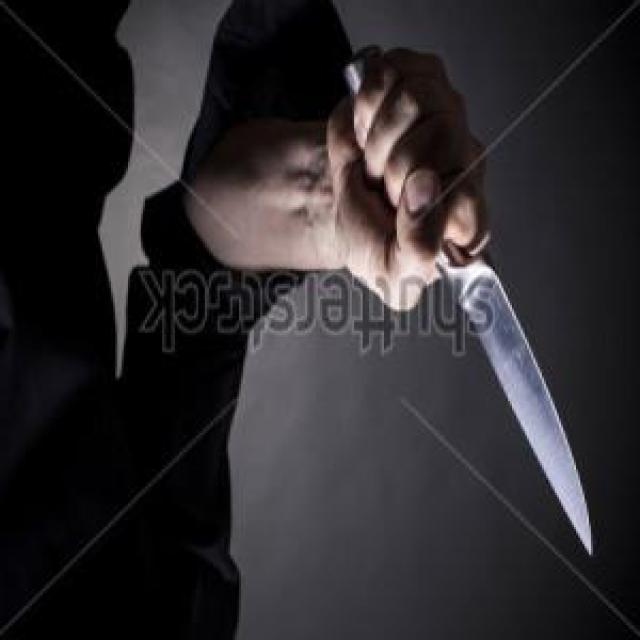knife: (364, 135, 602, 574)
